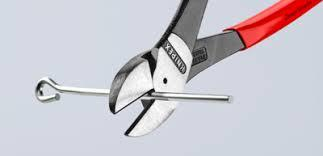pliers: (107, 0, 322, 137)
